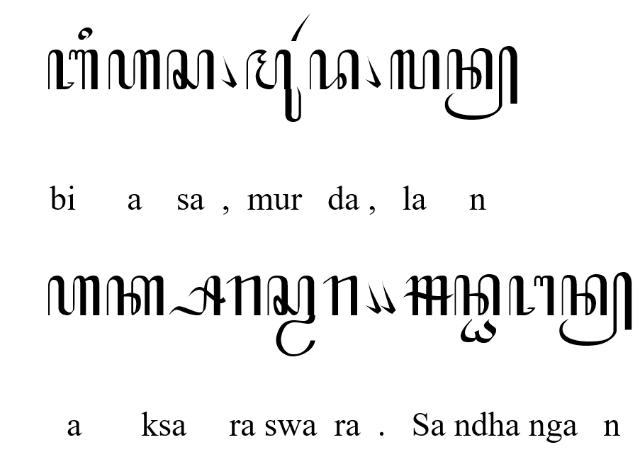-n: (444, 46, 518, 120), (559, 272, 633, 346)
S: (402, 276, 453, 316)
_dh: (460, 319, 496, 343)
_r1: (291, 13, 311, 41)
_s: (168, 274, 226, 316)
b: (47, 50, 99, 90)
d: (310, 50, 360, 90)
h: (108, 48, 160, 90), (48, 274, 100, 316)
i: (77, 26, 93, 40)
k: (106, 276, 166, 317)
kom: (220, 56, 238, 88), (365, 56, 381, 88), (366, 283, 382, 315), (380, 282, 396, 314)
l: (390, 49, 440, 89)
mu: (246, 50, 302, 123)
n: (454, 274, 500, 316)
nga: (508, 274, 554, 316)
r: (226, 274, 262, 316), (324, 275, 358, 317)
s: (166, 48, 214, 90)
sw: (267, 275, 315, 357)
